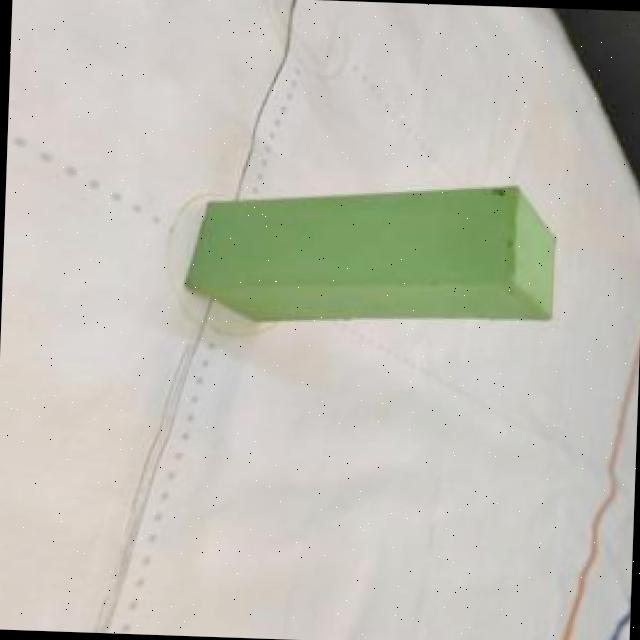greenbox: (187, 172, 560, 337)
